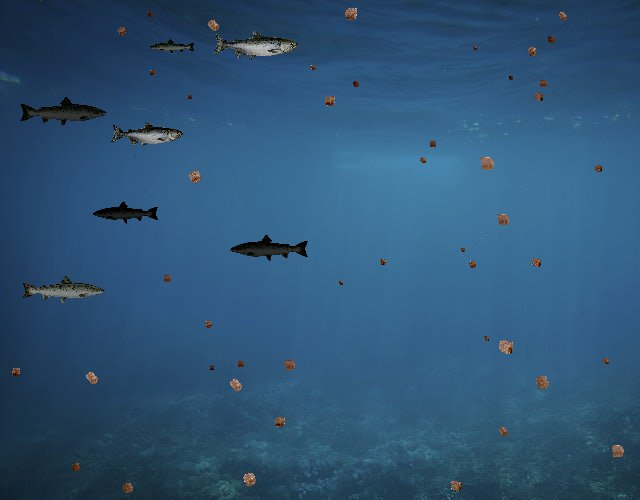Fish: (19, 96, 109, 128), (20, 274, 106, 305), (212, 30, 298, 61), (230, 234, 311, 263), (111, 122, 184, 148), (93, 200, 161, 225), (150, 39, 197, 56)
Pellet: (473, 150, 501, 178), (491, 208, 515, 232), (201, 13, 225, 37), (493, 421, 513, 441), (522, 41, 542, 61), (307, 62, 320, 75), (458, 244, 468, 254)
